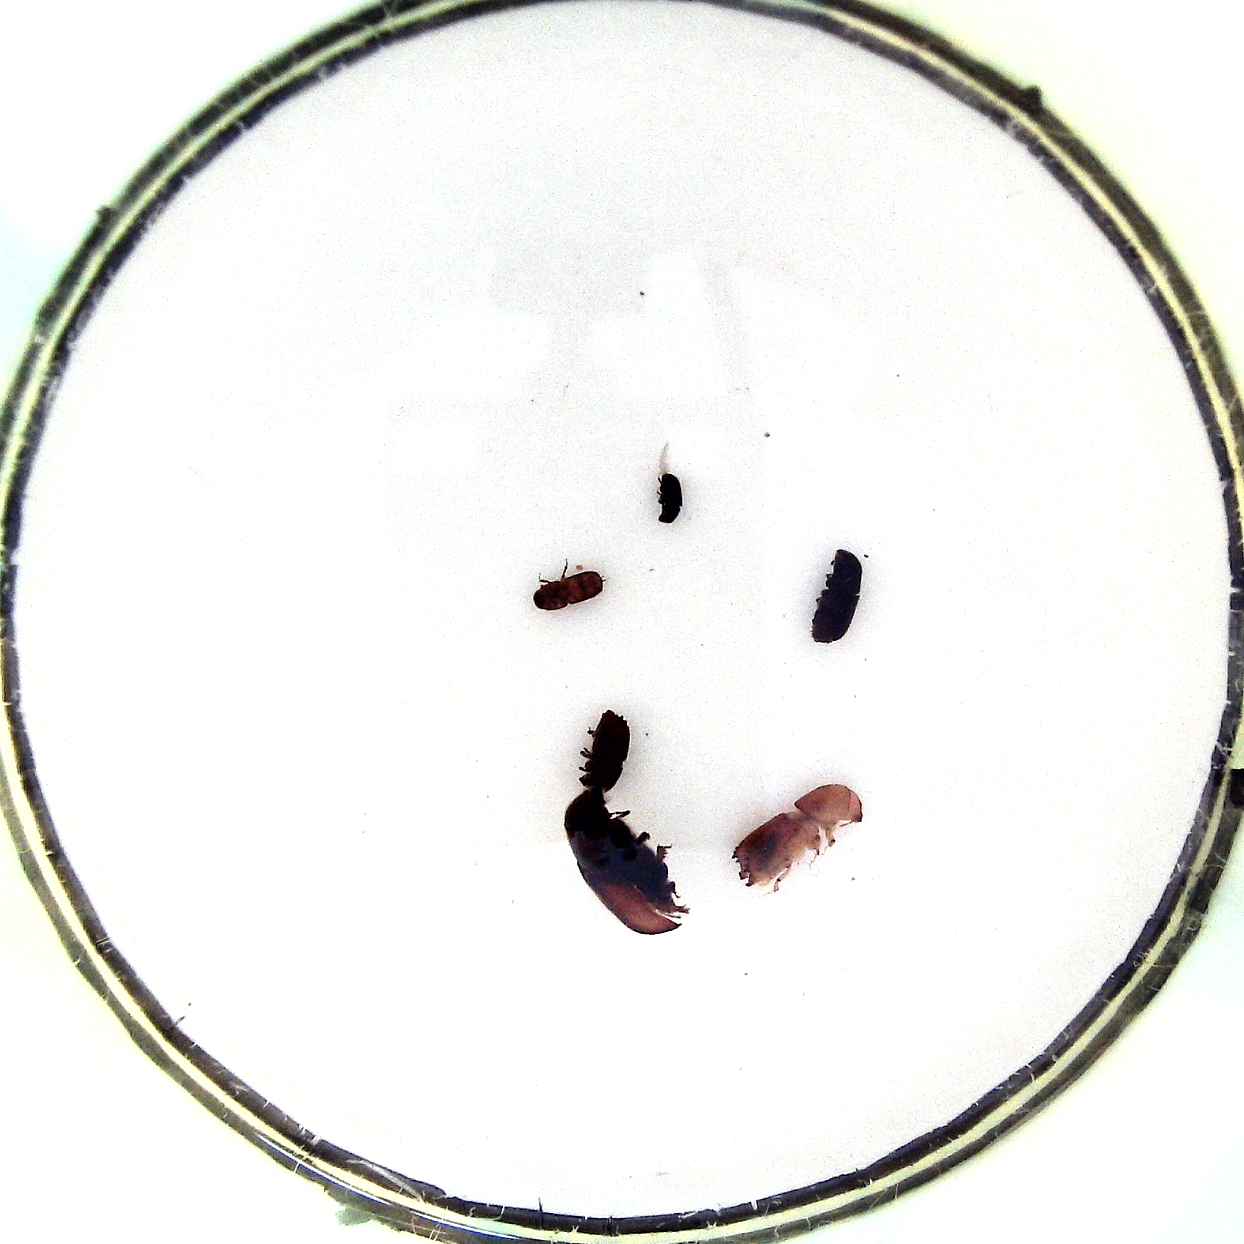Boerner: (723, 778, 864, 897)
Leconte: (563, 786, 685, 942)
Linnaeus: (576, 707, 633, 797)
acuminatus: (523, 560, 605, 615)
armandi: (805, 545, 866, 648)
coleoptera: (646, 466, 691, 527)
